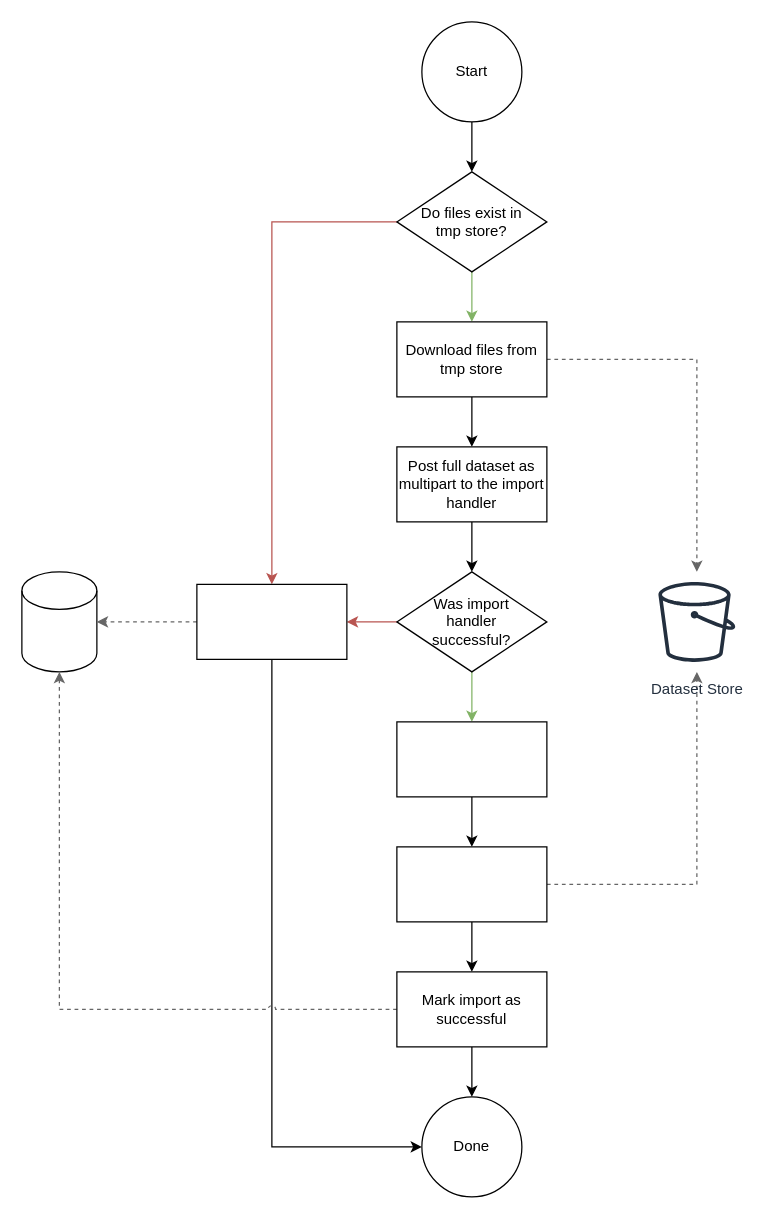
Image size: 769x1219. Some labels were removed from this diagram. Each missing label, with the centre of its shape:
Mark import as failed: (271,621)
Postgres DB: (59,621)
Unpack response archive from import handler: (471,759)
Upload unpacked "handled" dataset to dataset store: (471,884)
